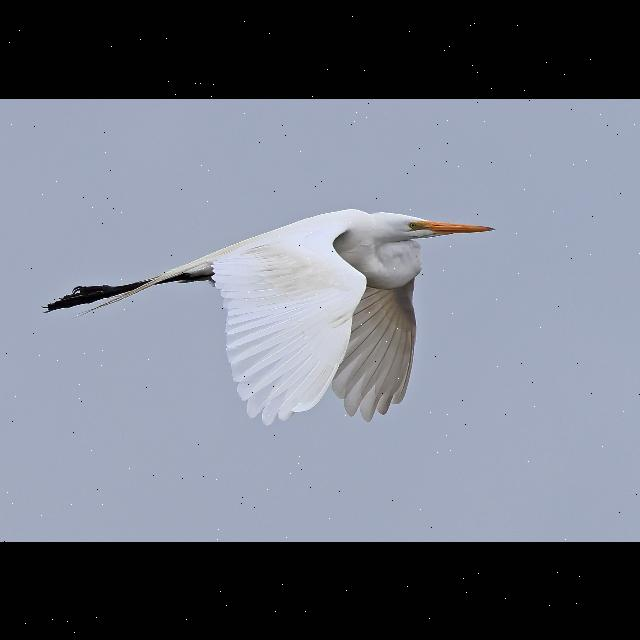egret: (40, 203, 508, 414)
